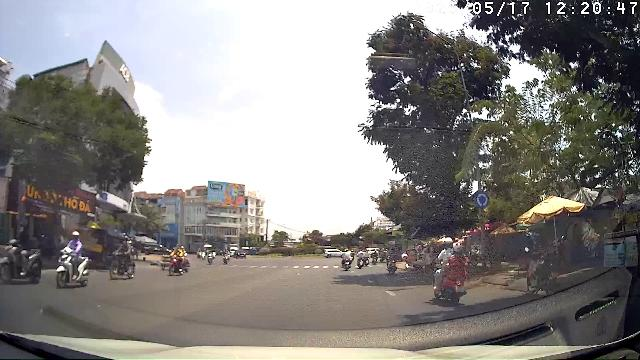303-noi-giao-nhau-chay-theo-vong-xuyen: (475, 192, 489, 208)
